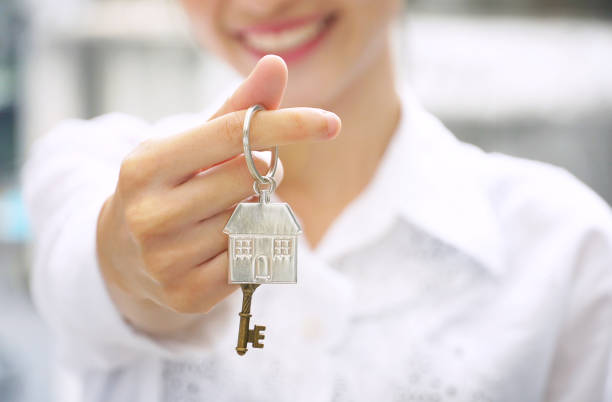key: (229, 284, 266, 356)
